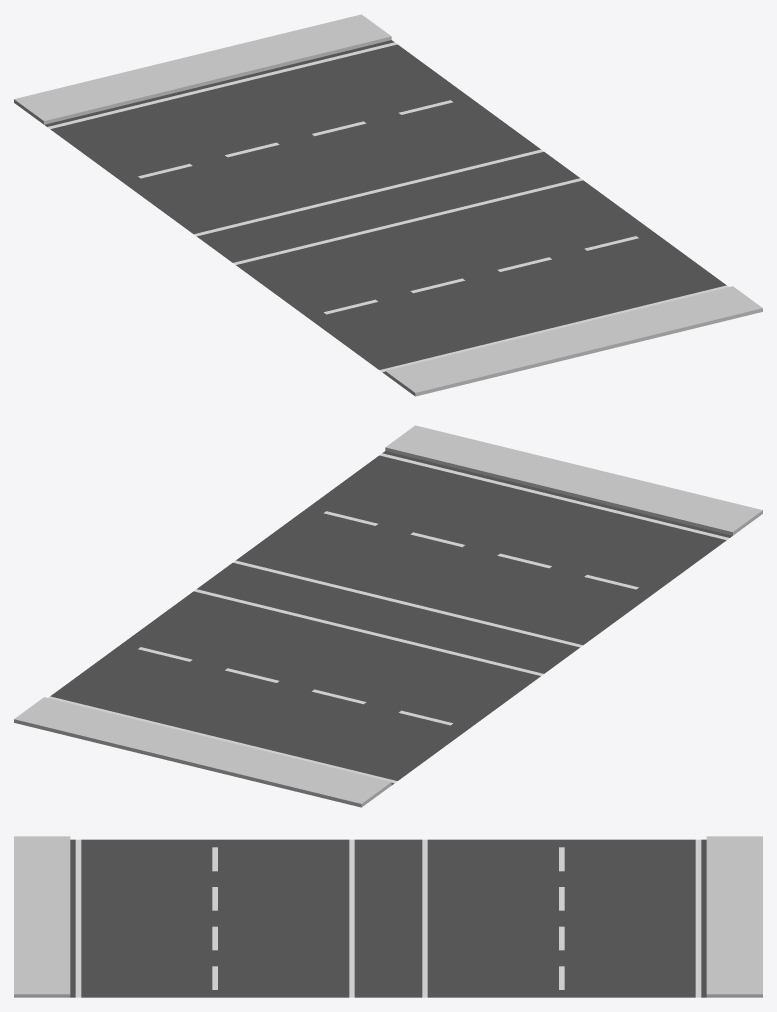
File: SPW_Urban_Road 4way_02.gltf
The picture shows the model from 3 angles, top to bottom: view 1: azimuth 30°, elevation 25°; view 2: azimuth 150°, elevation 25°; view 3: azimuth 270°, elevation 25°; orthographic projection. The views are drawn at different scales.
Parts seen in each view (by area): view 1: SPW_Urban_Road_4way_02; view 2: SPW_Urban_Road_4way_02; view 3: SPW_Urban_Road_4way_02.
Boxes of the visible parts, x1,y1,x2,y2 form: SPW_Urban_Road_4way_02: [14, 14, 762, 396]; SPW_Urban_Road_4way_02: [14, 425, 762, 807]; SPW_Urban_Road_4way_02: [14, 836, 762, 997].
Size of the model in its own units: 787 by 7.87 by 1575.
Materials: 1 (1 with a texture image).
